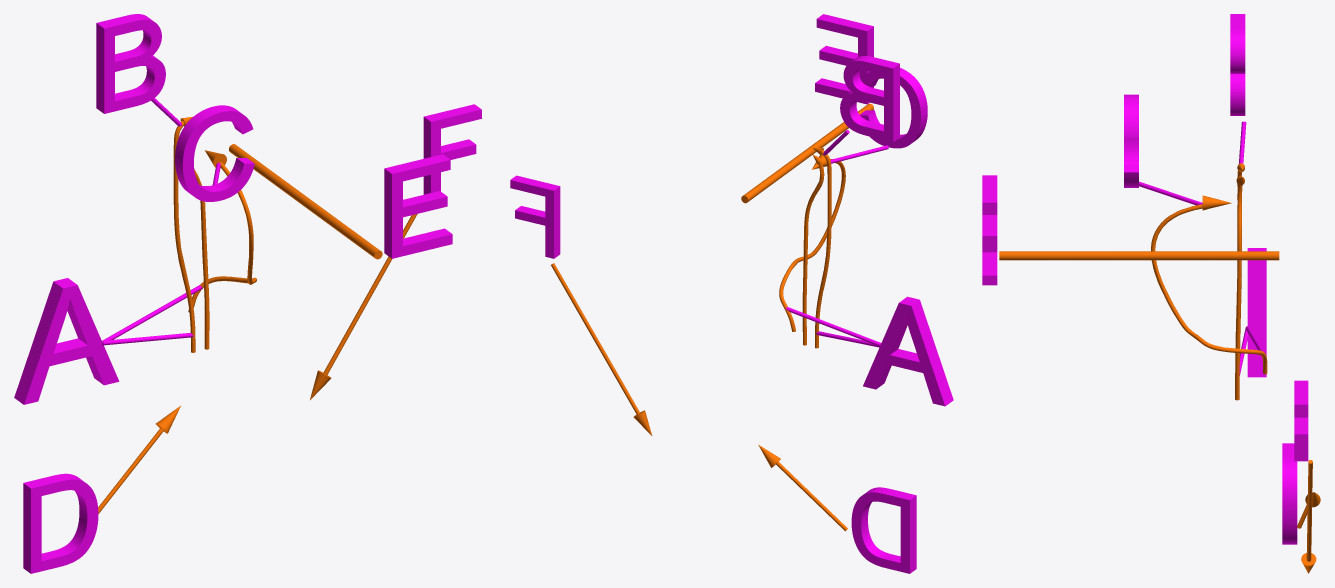
Rendered from s5arrow.glb.
3 renders of one model, left to right at view 1: azimuth 30°, elevation 25°; view 2: azimuth 150°, elevation 25°; view 3: azimuth 270°, elevation 25°, orthographic. The views are drawn at different scales.
Visible parts, largest first — view 1: Node; view 2: Node; view 3: Node.
Boxes of the visible parts, x1=… form: Node: x1=14, y1=14, x2=481, y2=573; Node: x1=510, y1=14, x2=953, y2=573; Node: x1=982, y1=14, x2=1320, y2=573.
Bounding box in the file's own units: 7.08 × 7.77 × 4.47.
